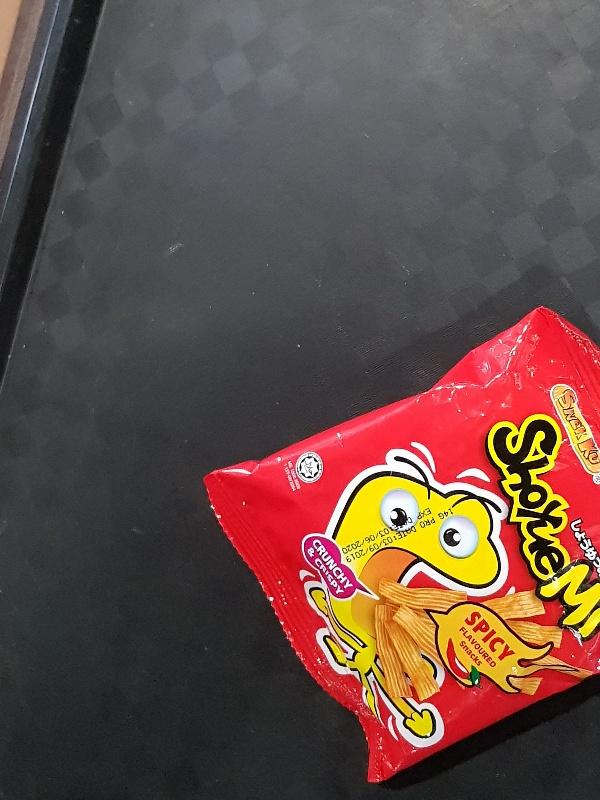ShoyueMi Spicy Flavoured Snacks: (200, 305, 600, 788)
